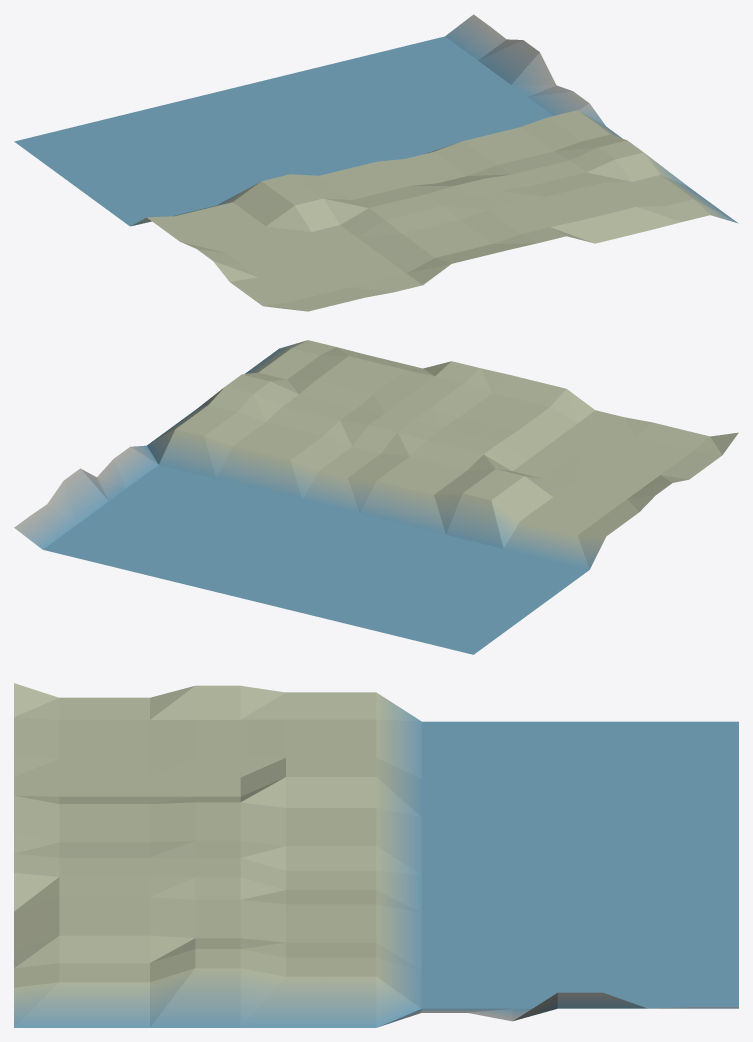
3 renders of one model, top to bottom at view 1: azimuth 30°, elevation 25°; view 2: azimuth 150°, elevation 25°; view 3: azimuth 270°, elevation 25°, orthographic. The views are drawn at different scales.
Size of the model in its own units: 32 by 1.99 by 32.
